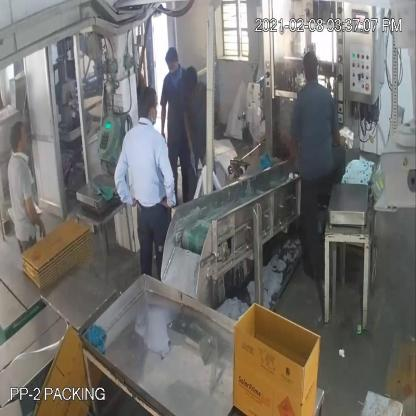no_glove: (156, 144, 176, 219), (111, 152, 134, 206), (26, 188, 50, 237)
